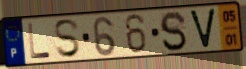6: (92, 15, 118, 59), (123, 13, 148, 56)
L: (27, 22, 53, 60)
S: (159, 10, 190, 53), (53, 18, 83, 60)
V: (187, 7, 218, 51)
